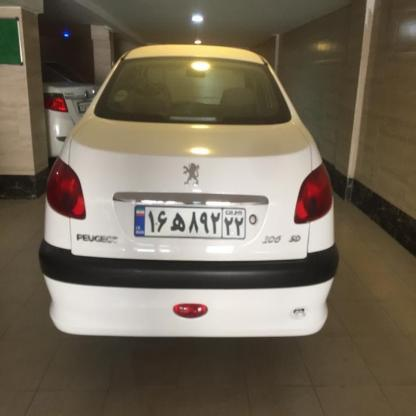Car: (37, 32, 349, 328), (43, 53, 102, 160)
